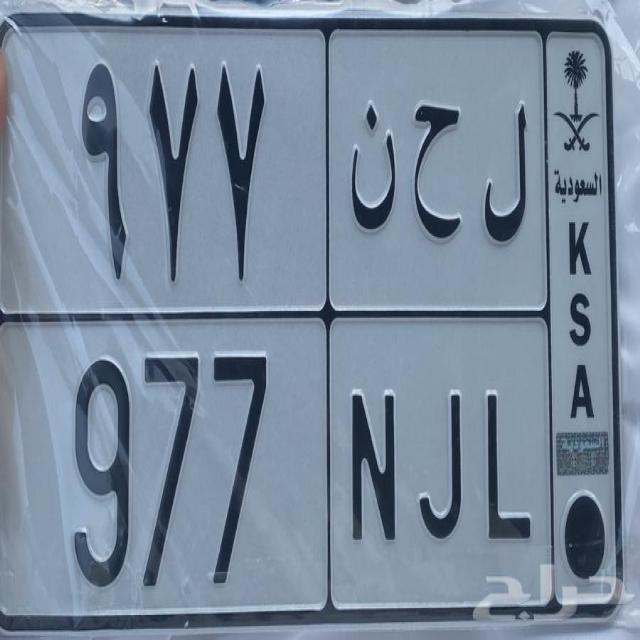license_plate: (6, 310, 557, 615)
